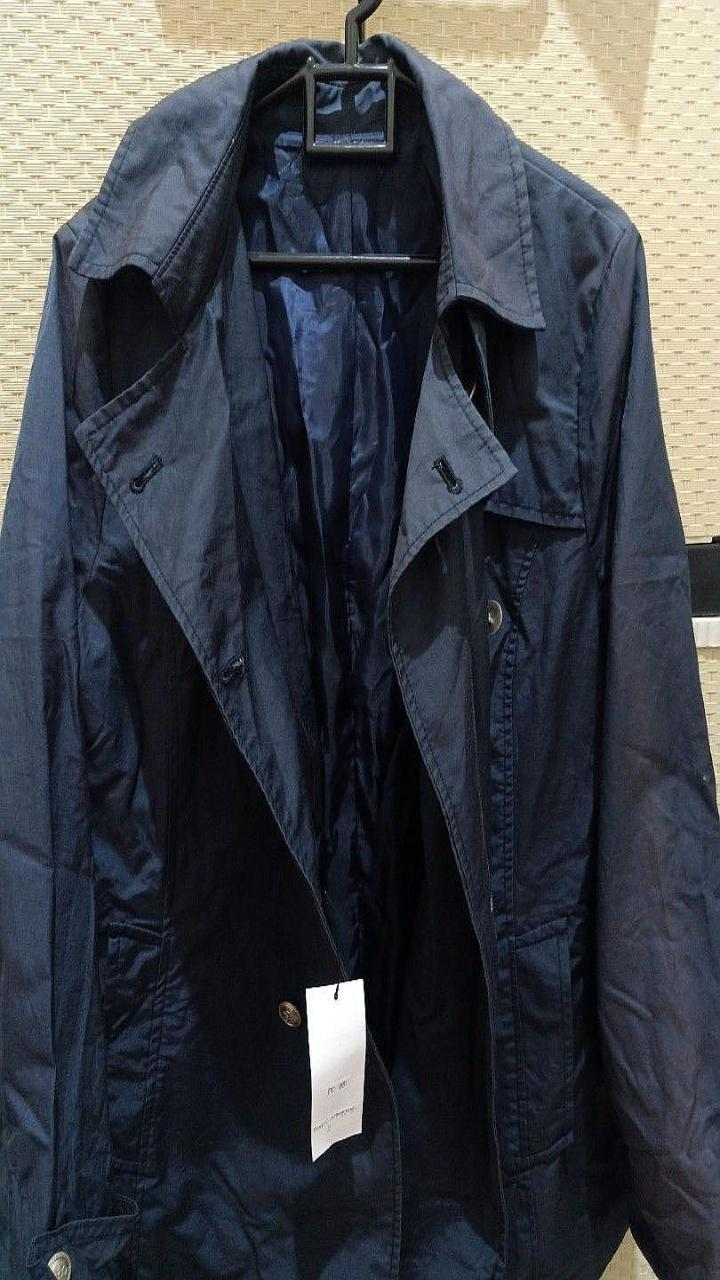Coat: (0, 35, 719, 1279)
